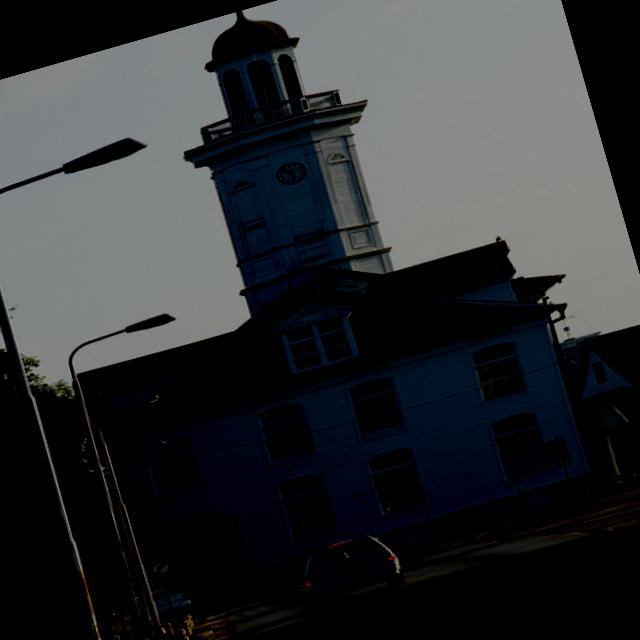Vehicle: (286, 526, 408, 613), (262, 540, 348, 608), (206, 560, 278, 612), (135, 580, 197, 622), (257, 557, 292, 602)
